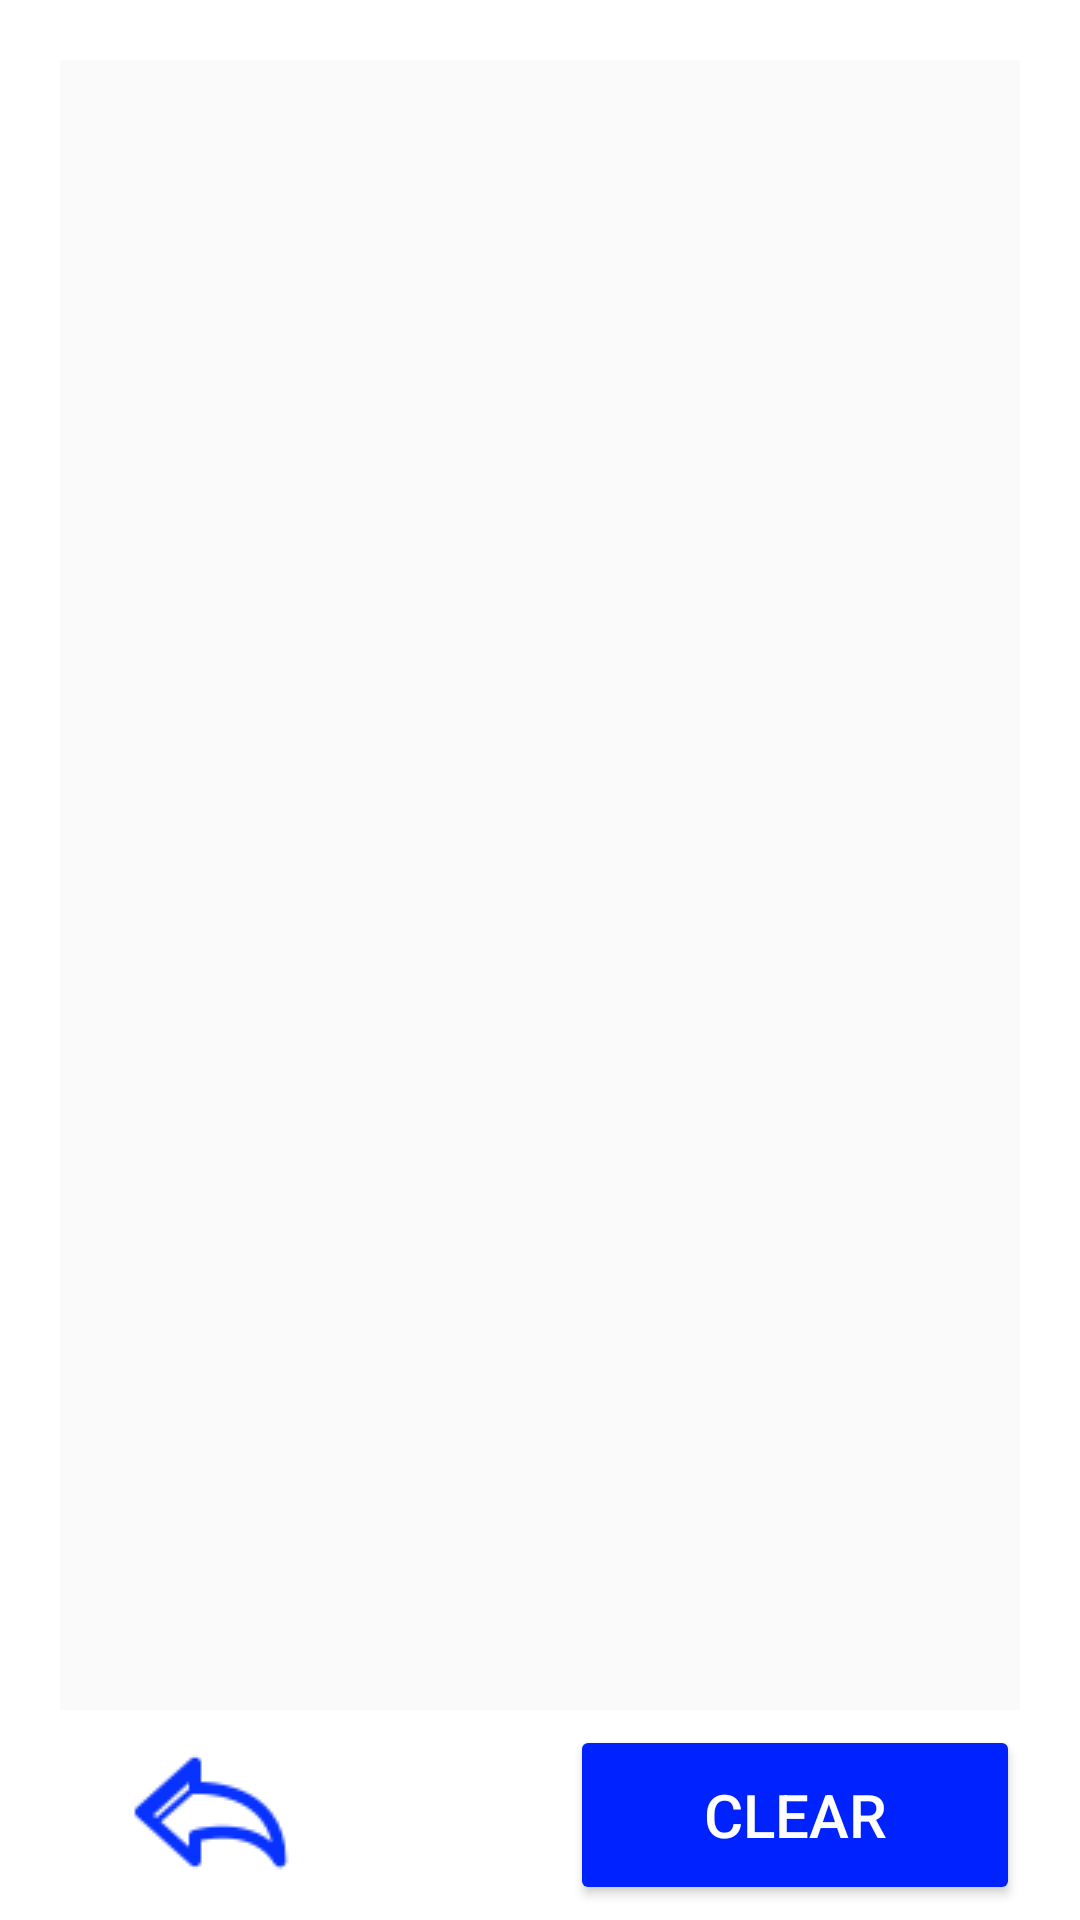

Icons on this 1080 x 1920 Android screen, each with the point to tap as [x,y]:
back: [211,1813]
